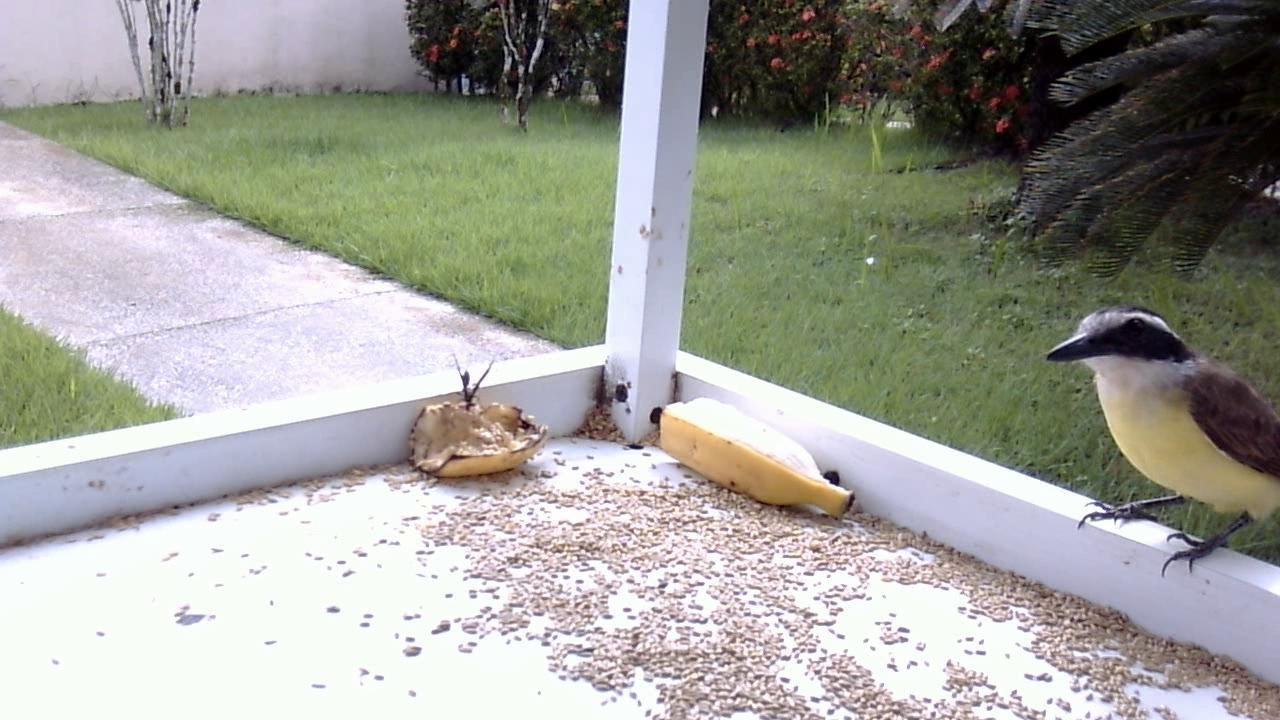bem_te_vi: (1030, 300, 1280, 595)
